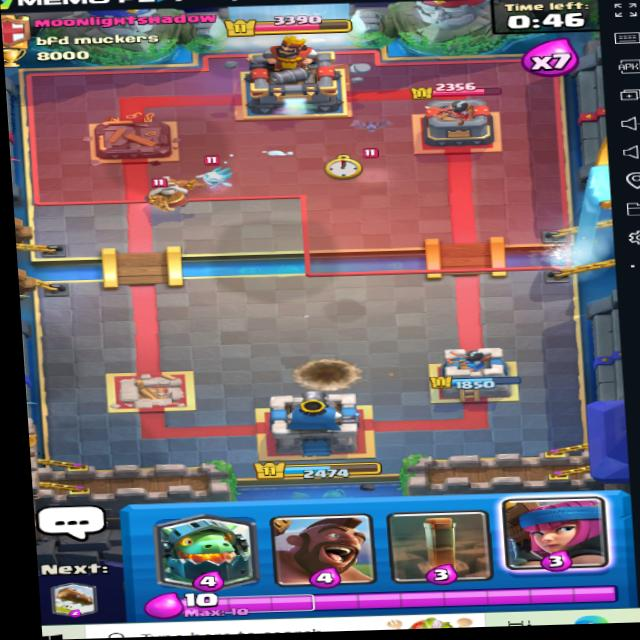bats: (351, 114, 397, 136)
ice-spirit: (190, 163, 231, 193)
monk: (125, 175, 204, 217)
